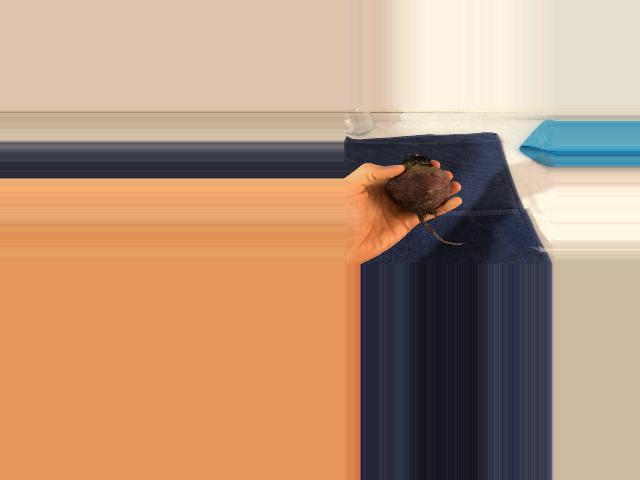beet: (386, 154, 465, 245)
